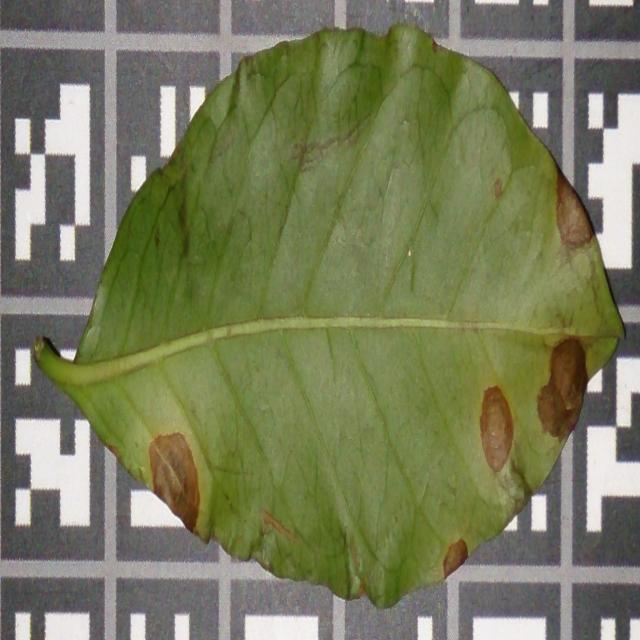Enfermedad-Mancha-de-hierro: (30, 24, 626, 612)
